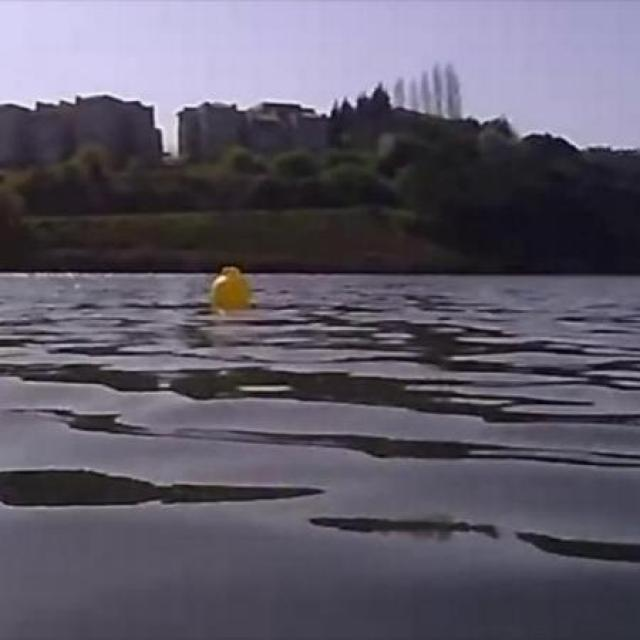buoy: (214, 261, 250, 297)
